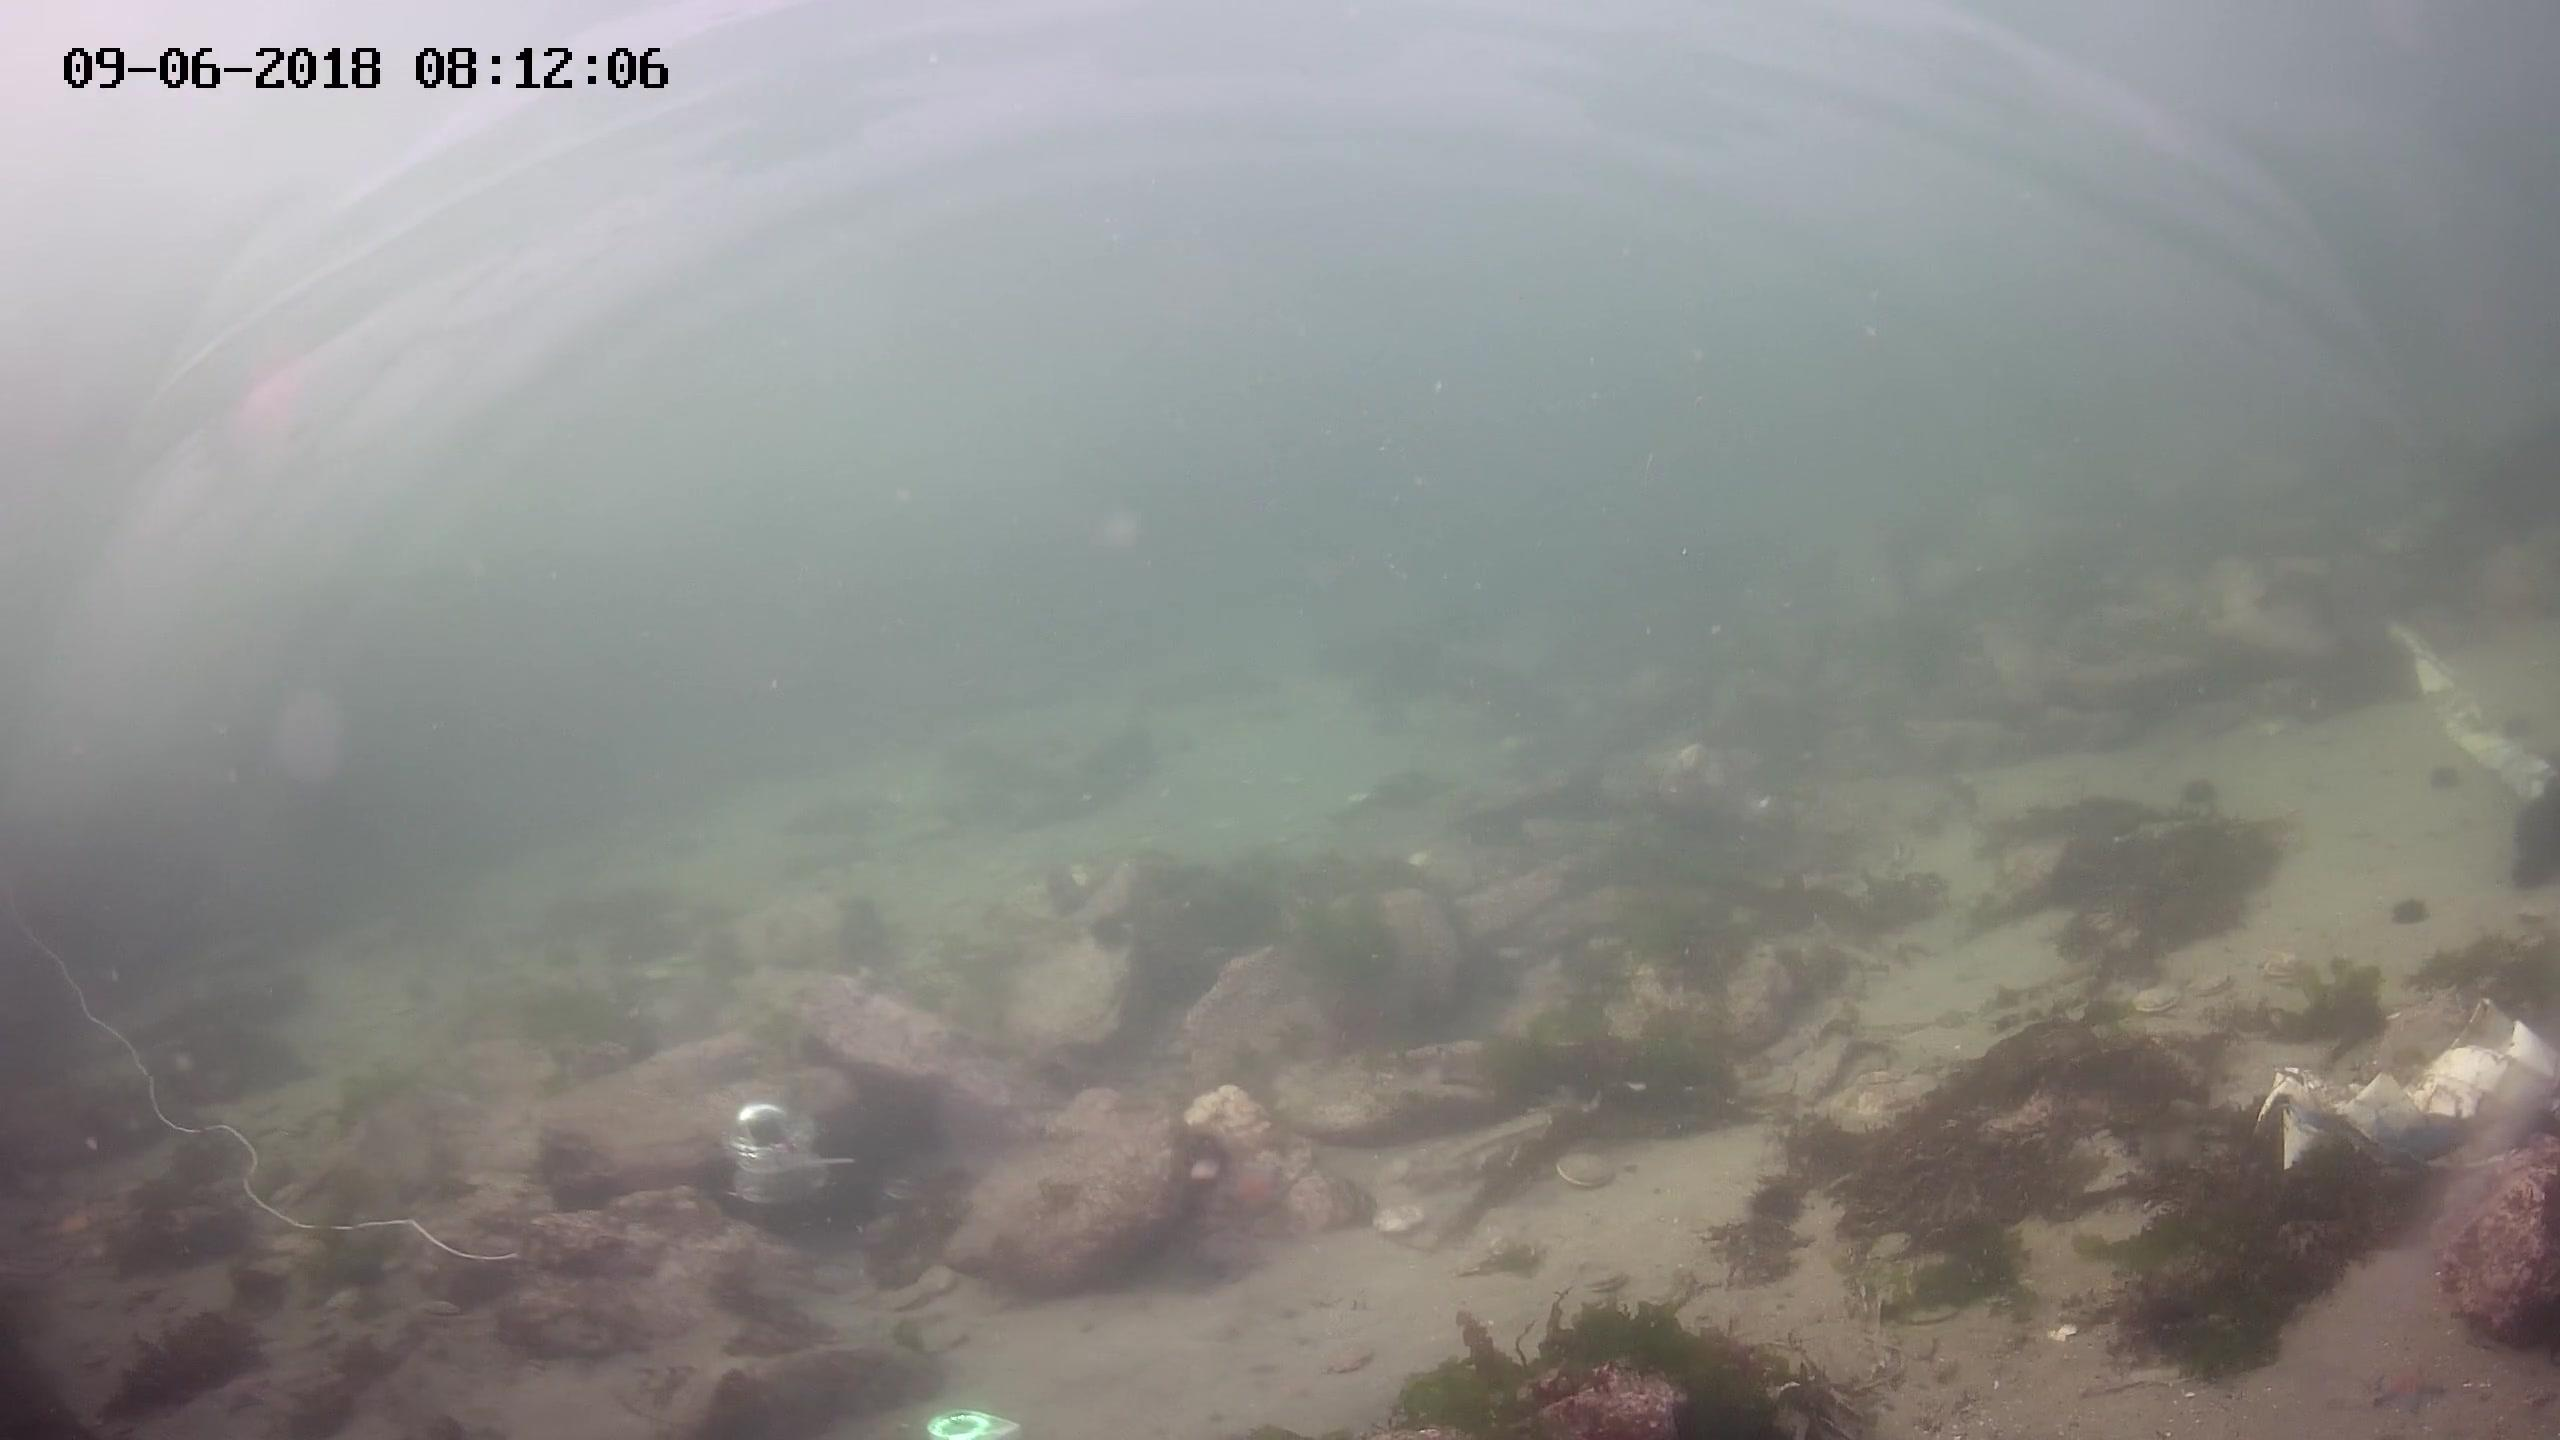scallop: (1554, 1146, 1619, 1194), (1319, 1338, 1373, 1378), (2263, 948, 2316, 986), (1364, 1210, 1435, 1238), (2185, 967, 2242, 1000), (1568, 1266, 1633, 1292), (2133, 983, 2180, 1016)
starfish: (2354, 1356, 2446, 1417), (1225, 1162, 1289, 1222)
